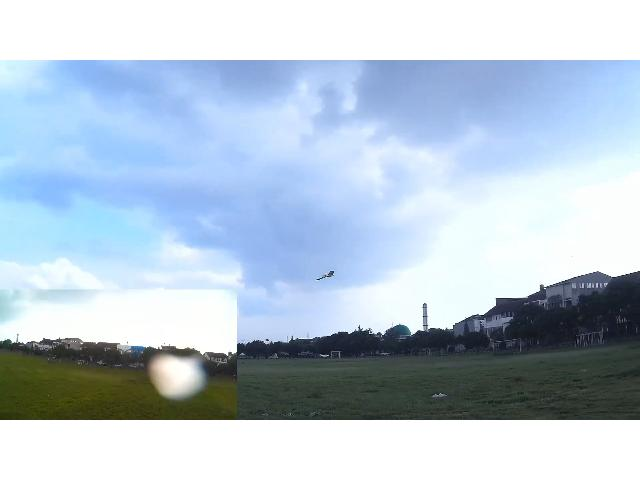Anti-Drone: (314, 271, 334, 281)
